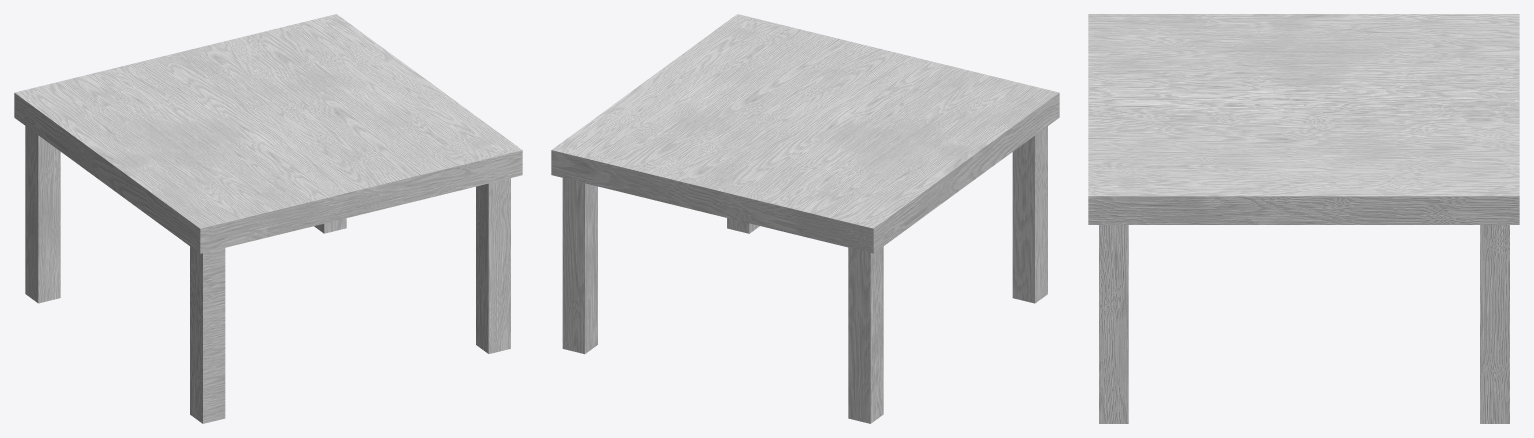
The model's file is Table.fbx.
3 views of the same model, side by side, from view 1: azimuth 30°, elevation 25°; view 2: azimuth 150°, elevation 25°; view 3: azimuth 270°, elevation 25° (orthographic). The views are drawn at different scales.
Visible parts, largest first — view 1: Table; view 2: Table; view 3: Table.
Boxes of the visible parts, x1,y1,x2,y2 form: Table: (14, 14, 522, 423); Table: (551, 14, 1059, 423); Table: (1088, 14, 1519, 423).
Size of the model in its own units: 1609 by 955 by 1609.
Materials: 1 (1 with a texture image).
